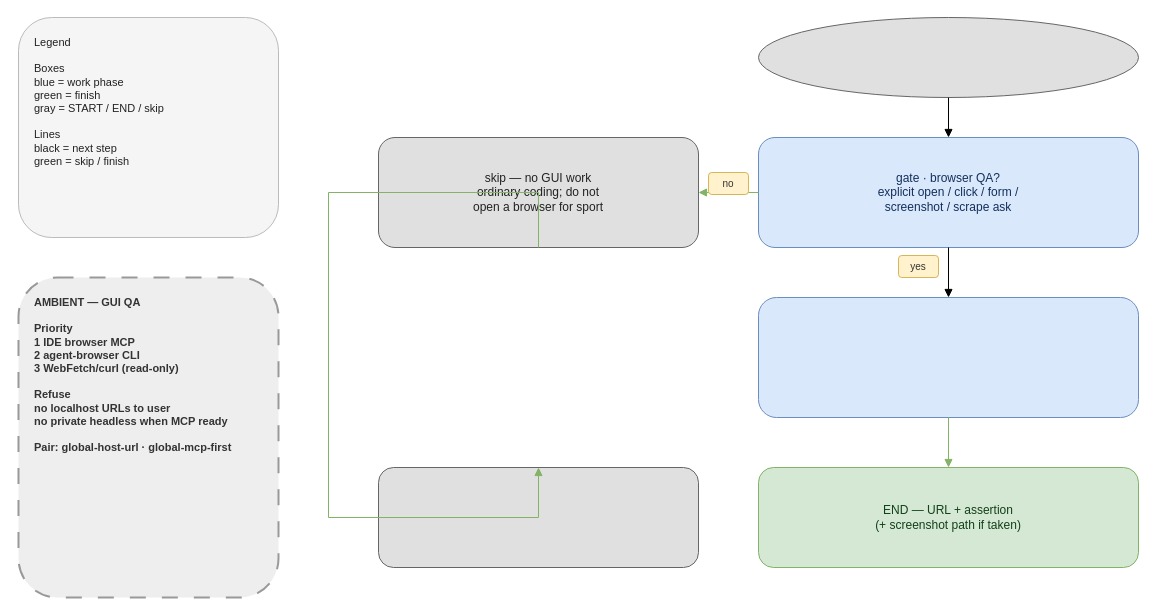
The diagram is 1156 pixels wide and 616 high, and some of its shapes have lost their labels. The shapes that lost their labels are listed below. From the top down, each one's centre as x and y in pixels, then its label:
At (x=948, y=57): "START — user ask".
At (x=948, y=357): "drive browser IDE MCP tools first; CLI only if MCP unusable".
At (x=538, y=517): "END — stay out".
